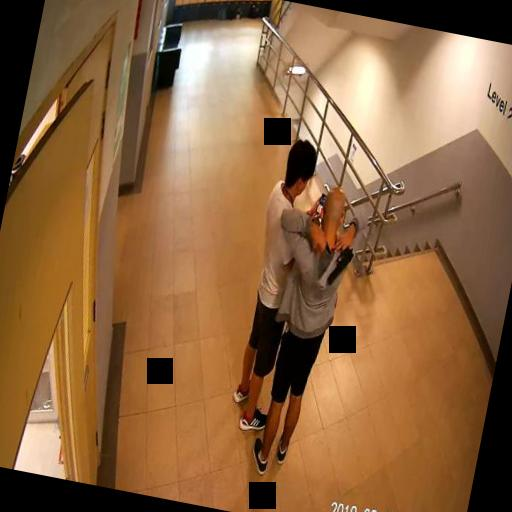Handgun: (326, 238, 354, 286)
